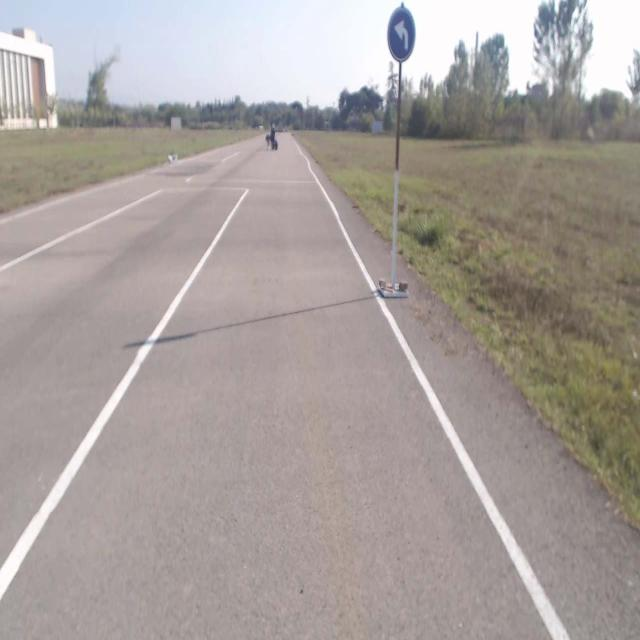sol: (386, 7, 416, 61)
